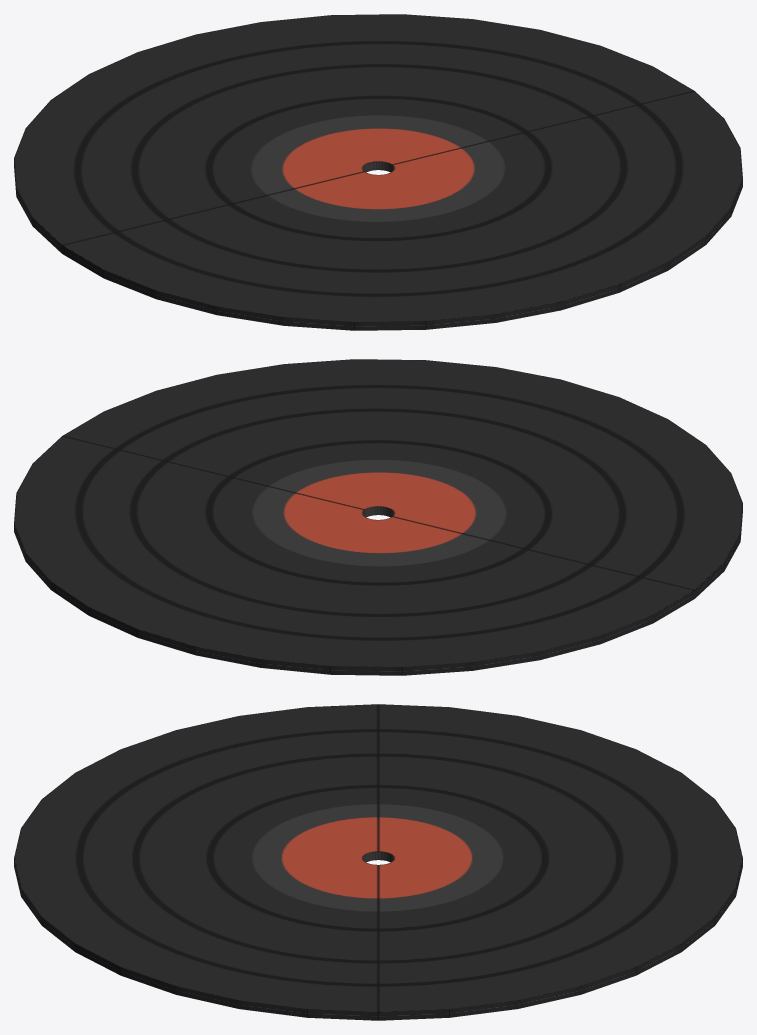
Rendered from piringan hitam.fbx.
3 views of the same model, one above another, from view 1: azimuth 30°, elevation 25°; view 2: azimuth 150°, elevation 25°; view 3: azimuth 270°, elevation 25° (orthographic).
Parts seen in each view (by area): view 1: Cylinder; view 2: Cylinder; view 3: Cylinder.
Part boxes in pixels (x1,y1,x2,y2): Cylinder: (14, 14, 742, 330); Cylinder: (14, 359, 742, 675); Cylinder: (14, 704, 742, 1020).
Bounding box in the file's own units: 263 × 3.39 × 263.
Materials: 1 (1 with a texture image).
